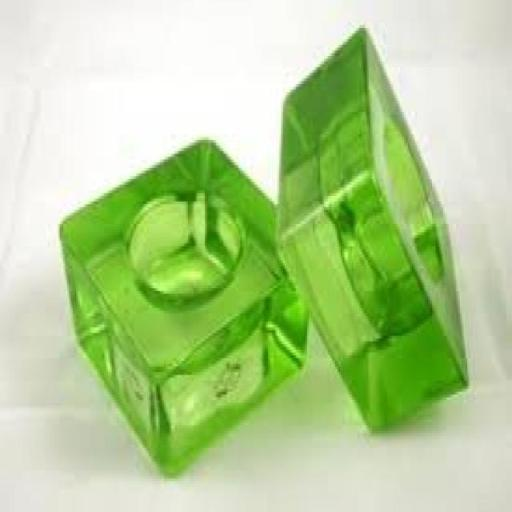glass: (62, 142, 304, 476), (280, 28, 466, 430)
